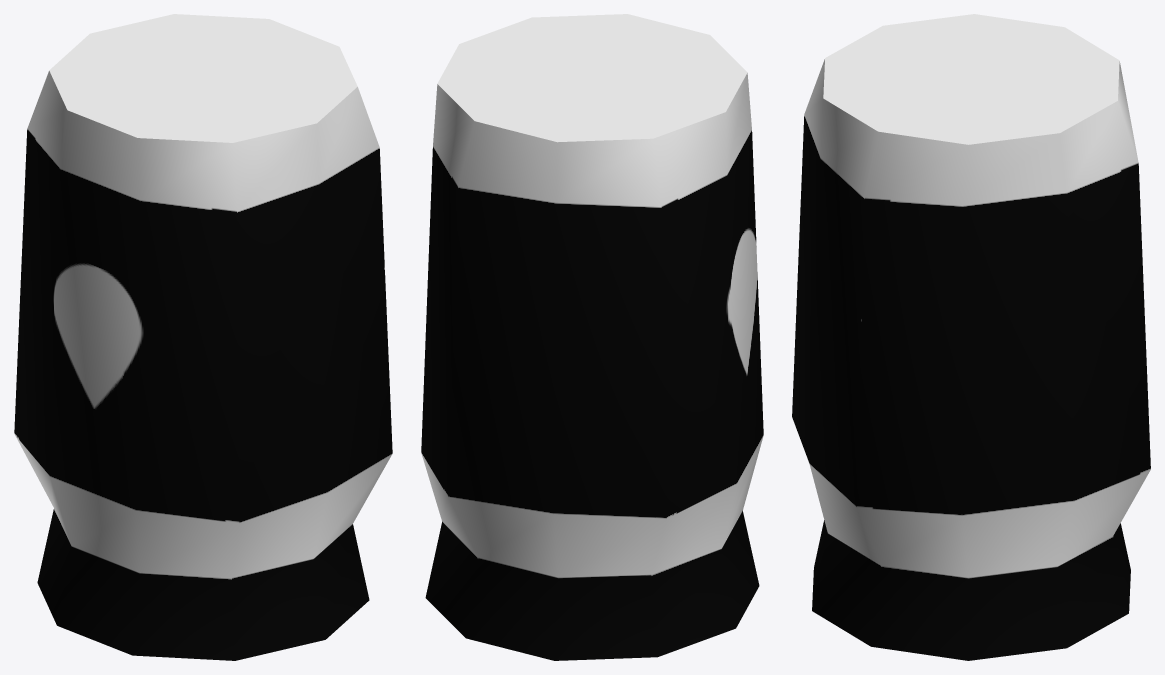
File: JunkiezBlenderBottle.fbx
3 views of the same model, side by side, from view 1: azimuth 30°, elevation 25°; view 2: azimuth 150°, elevation 25°; view 3: azimuth 270°, elevation 25° (orthographic).
Visible parts, largest first — view 1: PeanutButter; view 2: PeanutButter; view 3: PeanutButter.
Boxes of the visible parts, left/top/right/bottom form: PeanutButter: left=14, top=14, right=392, bottom=660; PeanutButter: left=421, top=14, right=763, bottom=660; PeanutButter: left=792, top=14, right=1150, bottom=660.
Size of the model in its own units: 15.39 by 25.33 by 16.12.
